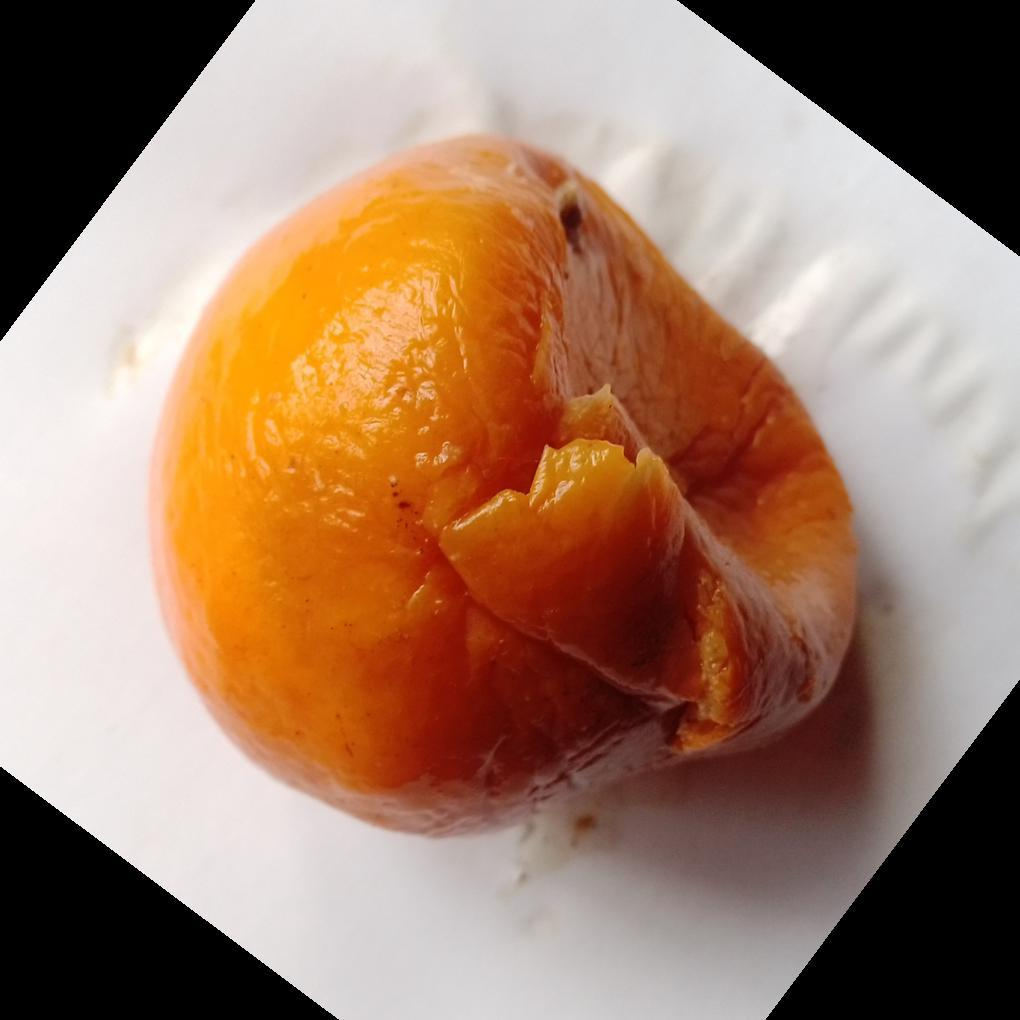FreshOrange: (141, 132, 864, 883)
